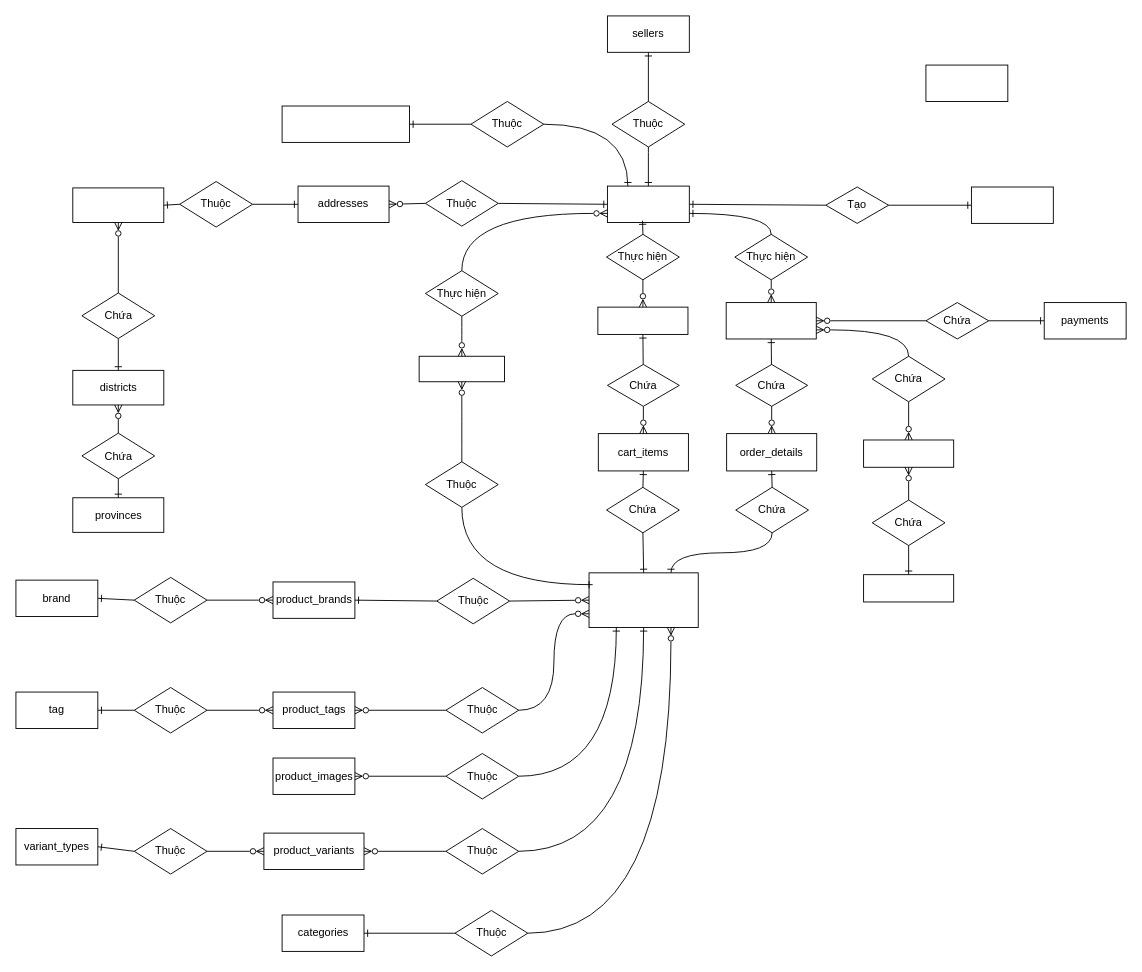
This 1142x972 diagram has some shape labels left out. Here are the shapes that lost their labels. From the top down, the box of each, then its label:
(925, 64, 1008, 101): setting
(281, 105, 410, 142): password_reset_token
(72, 187, 164, 222): wards
(607, 185, 689, 222): users
(971, 186, 1053, 223): posts
(597, 306, 688, 334): carts
(725, 302, 816, 339): orders
(418, 355, 505, 382): reviews
(863, 439, 954, 467): coupon_usages
(588, 572, 698, 627): products
(863, 574, 954, 602): coupons
